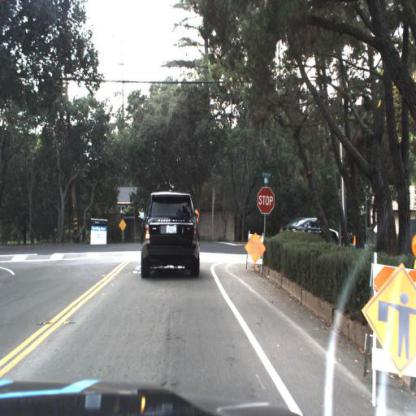car: (141, 191, 201, 278), (281, 214, 341, 250)
